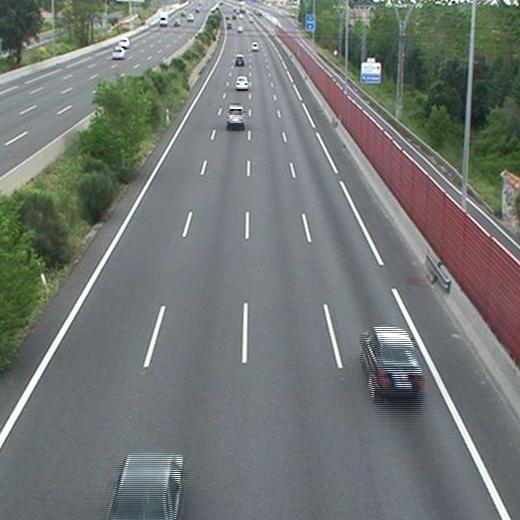car: (108, 456, 185, 520), (363, 329, 424, 395), (227, 106, 245, 127), (235, 76, 248, 88), (235, 56, 244, 66), (251, 42, 258, 51)
